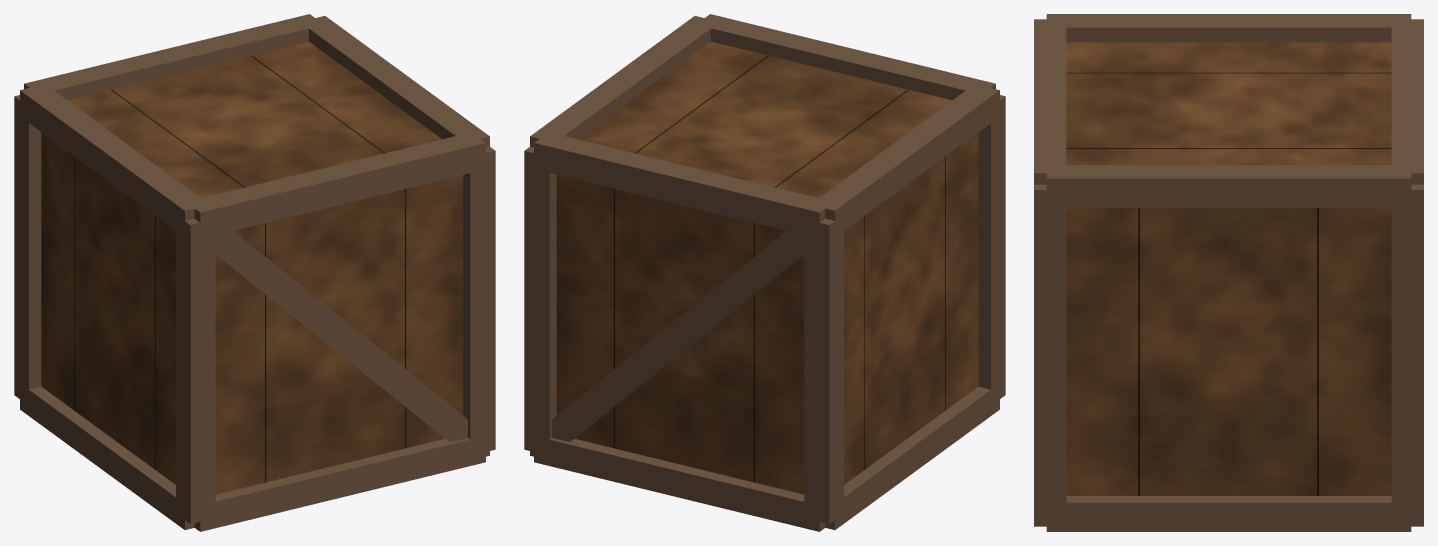
File: Crate.gltf
3 renders of one model, left to right at view 1: azimuth 30°, elevation 25°; view 2: azimuth 150°, elevation 25°; view 3: azimuth 270°, elevation 25°, orthographic. The views are drawn at different scales.
Visible parts, largest first — view 1: Crate; view 2: Crate; view 3: Crate.
Part boxes in pixels (bbox=[...]): Crate: bbox=[14, 14, 495, 531]; Crate: bbox=[524, 14, 1005, 531]; Crate: bbox=[1034, 14, 1423, 531].
Size of the model in its own units: 1.09 by 1.09 by 1.09.
2 materials, 1 textured.
